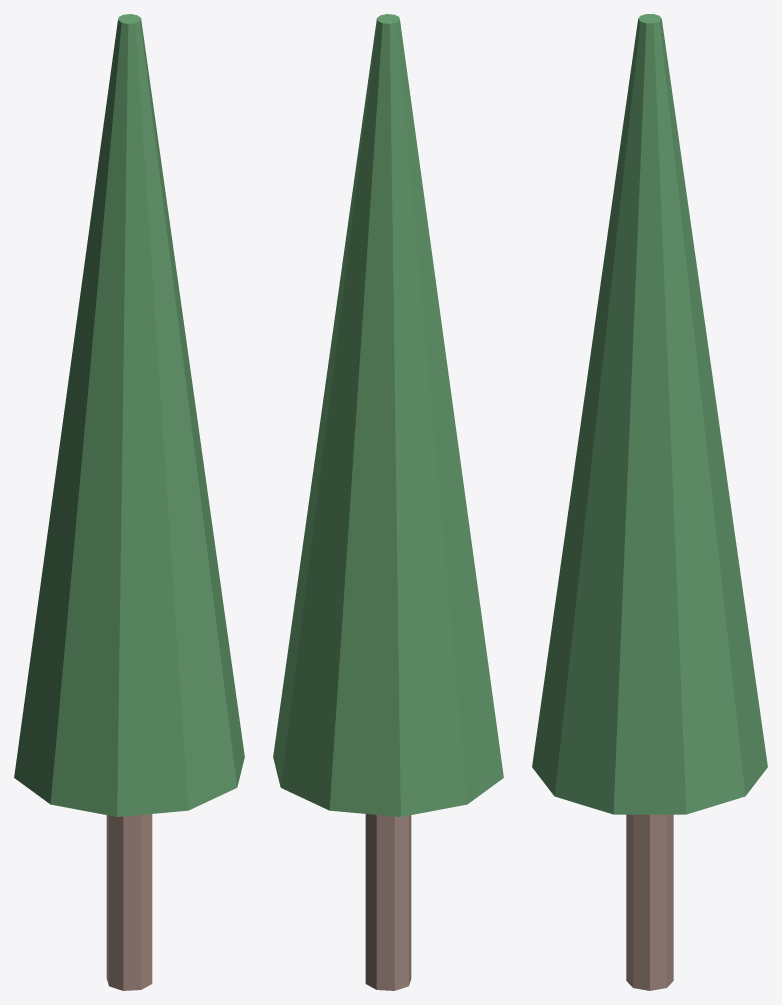
Rendered from tree_cypress.glb.
3 renders of one model, left to right at view 1: azimuth 30°, elevation 25°; view 2: azimuth 150°, elevation 25°; view 3: azimuth 270°, elevation 25°, orthographic.
Visible parts, largest first — view 1: tree_cypress; view 2: tree_cypress; view 3: tree_cypress.
Boxes of the visible parts, left/top/right/bottom form: tree_cypress: left=14, top=14, right=244, bottom=990; tree_cypress: left=273, top=14, right=503, bottom=990; tree_cypress: left=532, top=14, right=767, bottom=990.
Size of the model in its own units: 0.9511 by 4.5 by 1.
